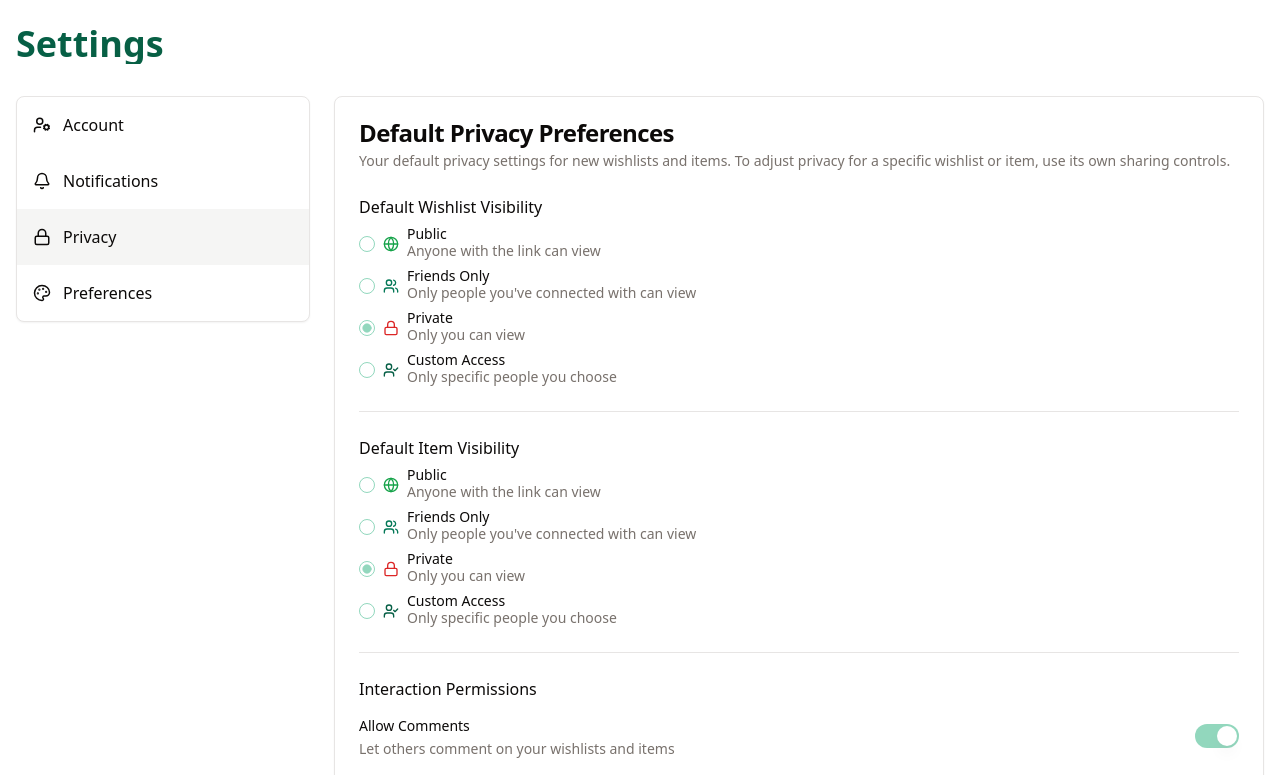
Settings page (App Settings hub) › shows theme/regional Preferences on the Preferences tab
Click the button with test id "settings-tab-preferences".
click(108, 293)  # box [17,265,309,321]
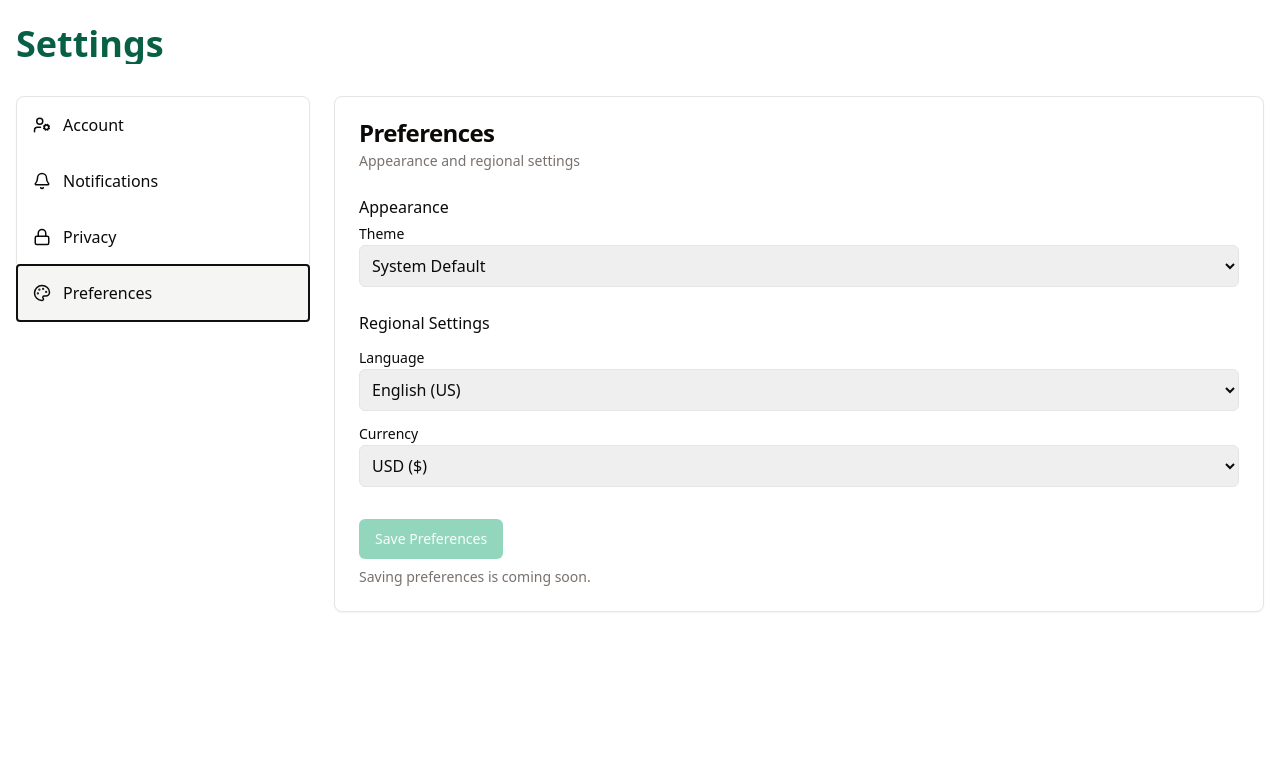
Result: the dropdown labelled "Theme" is shown at [359,245,1239,287]
Result: the dropdown labelled "Language" is shown at [359,369,1239,411]
Result: the dropdown labelled "Currency" is shown at [359,445,1239,487]
